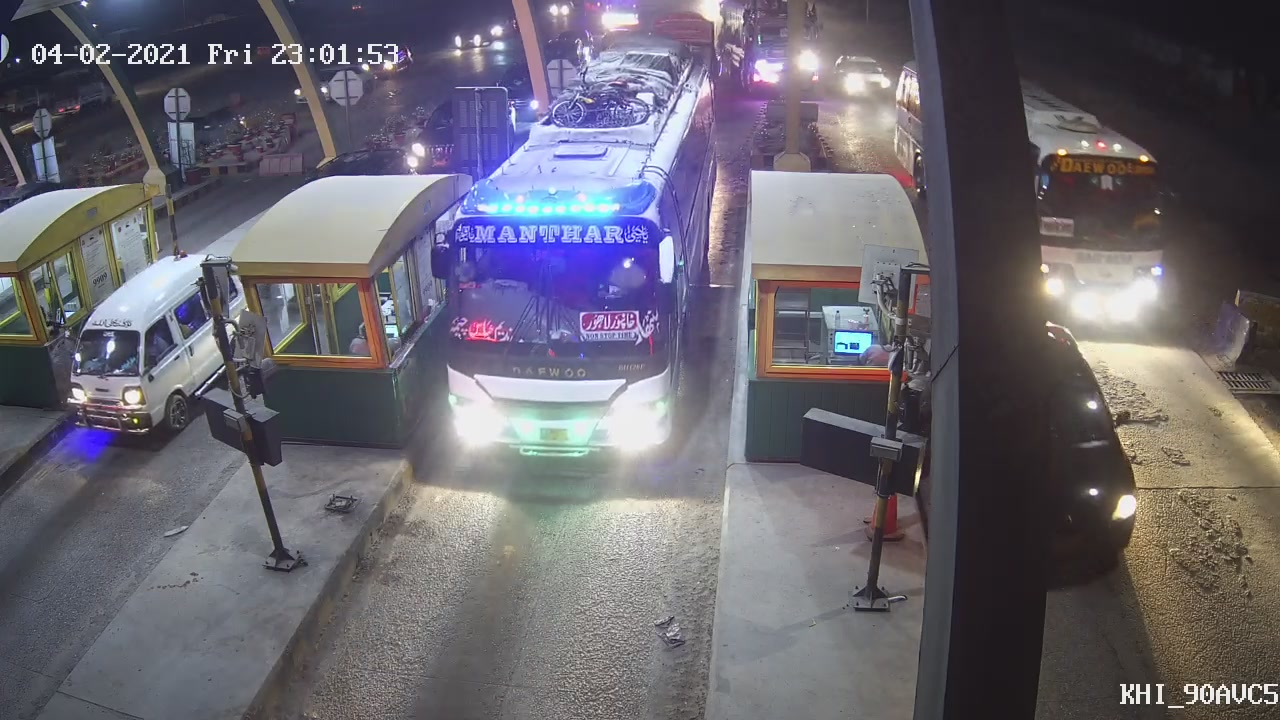F4: (425, 62, 707, 478)
